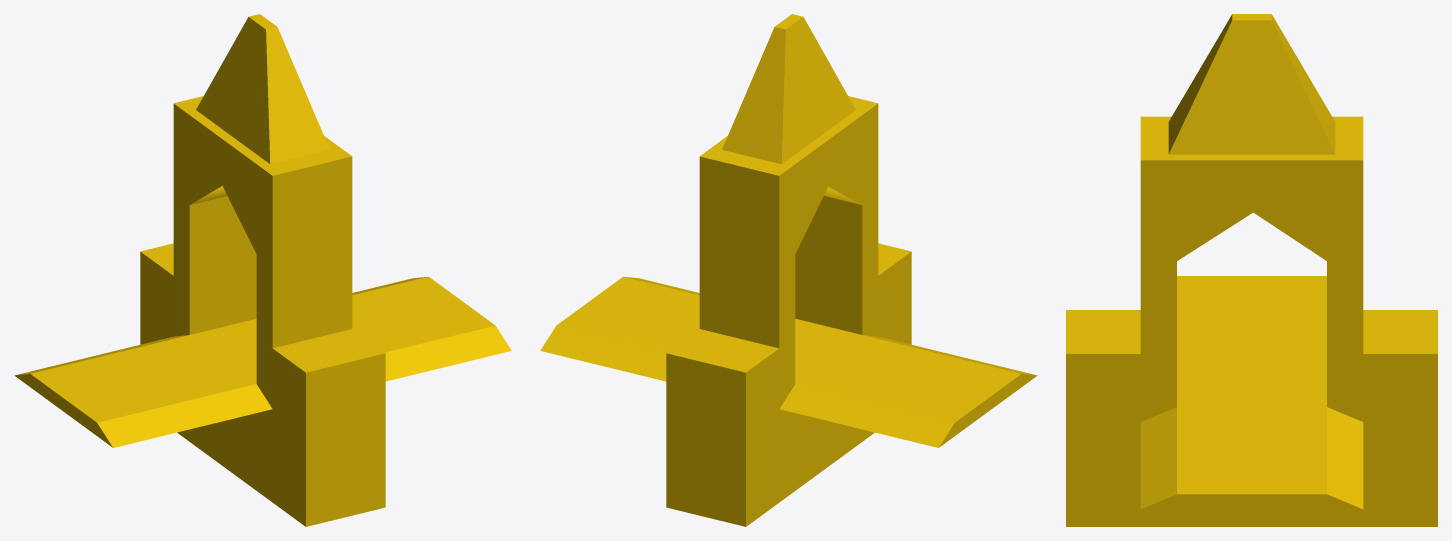
Rendered from Bridges3.fbx.
3 renders of one model, left to right at view 1: azimuth 30°, elevation 25°; view 2: azimuth 150°, elevation 25°; view 3: azimuth 270°, elevation 25°, orthographic. The views are drawn at different scales.
Visible parts, largest first — view 1: Bridges3; view 2: Bridges3; view 3: Bridges3.
Boxes of the visible parts, x1=… form: Bridges3: x1=14, y1=14, x2=511, y2=526; Bridges3: x1=540, y1=14, x2=1037, y2=526; Bridges3: x1=1066, y1=14, x2=1437, y2=526.
Size of the model in its own units: 398 by 415 by 287.
